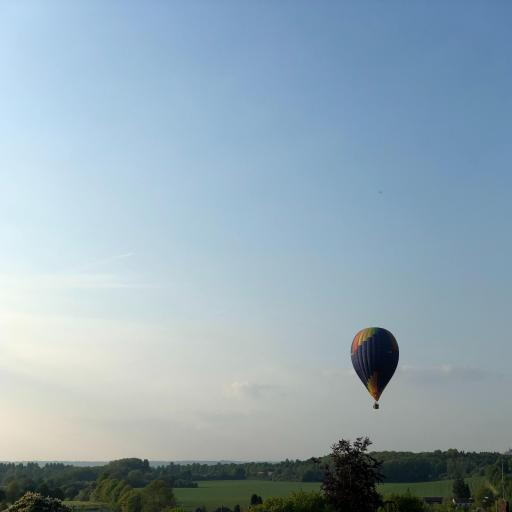hot air ballon: (350, 328, 399, 409)
